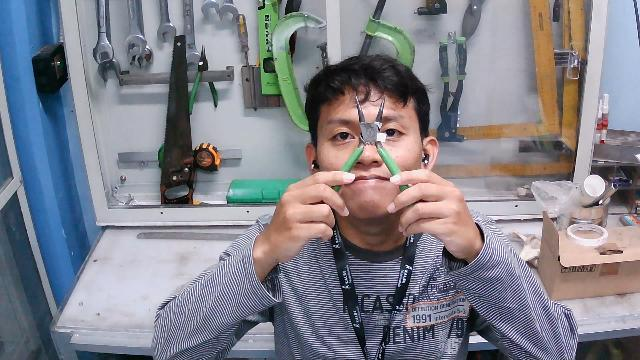tang_cucut_lancip_1: (317, 89, 414, 210)
